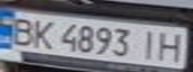3: (112, 25, 136, 58)
4: (54, 20, 81, 53)
8: (75, 22, 96, 55)
9: (90, 24, 115, 56)
B: (6, 15, 39, 47)
H: (151, 29, 190, 63)
I: (133, 28, 163, 61)
K: (27, 17, 57, 51)
